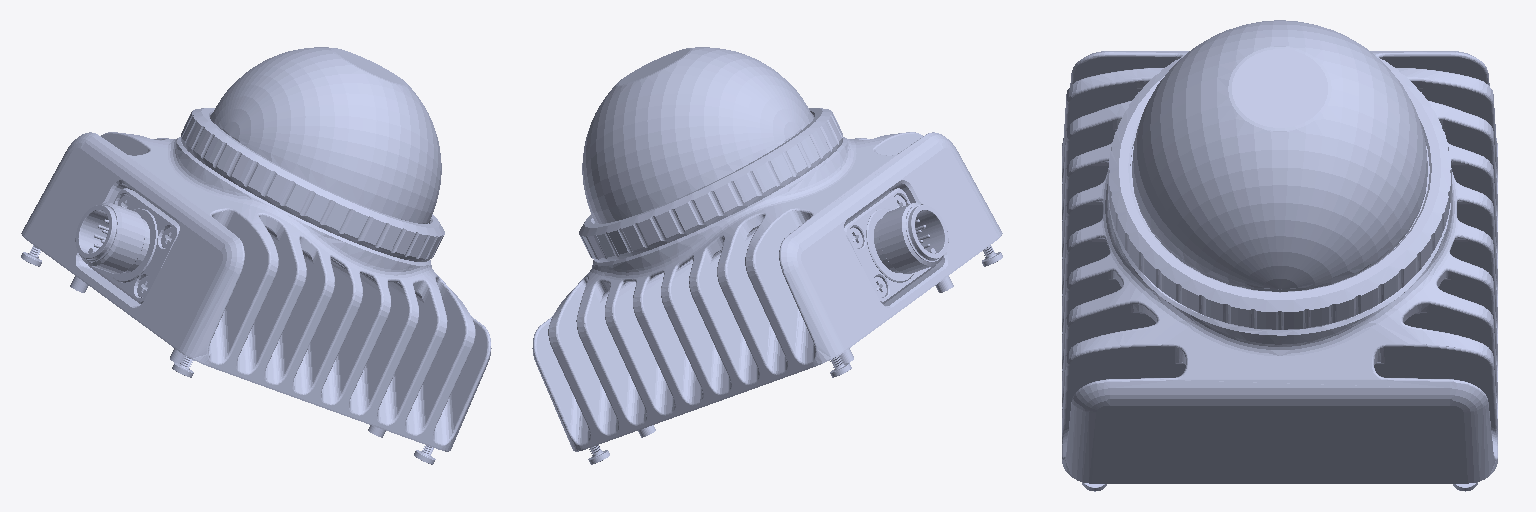
robot.urdf — Mk-description:
<?xml version="1.0" encoding="utf-8"?>
<robot name="Mk-description">
  
  <link name="base_footprint"/>

  <joint name="base_joint" type="fixed">
    <parent link="base_footprint"/>
    <child link="base_link"/>
    <origin xyz="0 0 0.25" rpy="0 0 0"/>
  </joint>

  <link name="base_link">
    <inertial>
      <origin xyz="0.003931 -0.0011622 -0.042486" rpy="0 0 0" />
      <mass value="68.825" />
      <inertia ixx="0.5143" ixy="-4.0046E-07" ixz="0.0029585" iyy="1.9652" iyz="2.8416E-06" izz="1.8922" />
    </inertial>
    <visual>
      <origin xyz="0 0 0" rpy="0 0 0" />
      <geometry>
        <mesh filename="package://mk_description/meshes/base_link.STL" />
      </geometry>
      <material name="">
        <color rgba="0.79216 0.81961 0.93333 1" />
      </material>
    </visual>
    <collision>
      <origin xyz="0 0 0" rpy="0 0 0" />
      <geometry>
        <mesh filename="package://mk_description/meshes/base_link.STL" />
      </geometry>
    </collision>
  </link>

  <link name="radar_Link">
    <inertial>
      <origin xyz="-0.00022593 -1.079E-07 -0.010581" rpy="0 0 0" />
      <mass value="0.12656" />
      <inertia ixx="3.6503E-05" ixy="1.6913E-10" ixz="-3.0481E-07" iyy="3.9717E-05" iyz="9.7579E-12" izz="5.8189E-05" />
    </inertial>
    <visual>
      <origin xyz="0 0 0" rpy="0 0 0" />
      <geometry>
        <mesh filename="package://mk_description/meshes/radar_Link.STL" />
      </geometry>
      <material name="">
        <color rgba="0.79216 0.81961 0.93333 1" />
      </material>
    </visual>
    <collision>
      <origin xyz="0 0 0" rpy="0 0 0" />
      <geometry>
        <mesh filename="package://mk_description/meshes/radar_Link.STL" />
      </geometry>
    </collision>
  </link>

  <joint name="radar_joint" type="fixed">
    <origin xyz="0.37089 0 0.48567" rpy="0 0.5236 0" />
    <parent link="base_link" />
    <child link="radar_Link" />
    <axis xyz="0 0 0" />
  </joint>

</robot>

--- What the picture shows (computed from the rendered views, not written in the file) ---
3 views of the same robot in one strip: view 1: azimuth 30°, elevation 25°; view 2: azimuth 150°, elevation 25°; view 3: azimuth 270°, elevation 25° (orthographic).
Robot: Mk-description — 3 links, 2 joints (2 fixed); root link base_footprint; default pose: every joint at zero.
Visible links, largest first — view 1: radar_Link; view 2: radar_Link; view 3: radar_Link.
Boxes of the visible links, <box> form: radar_Link: <box>21,47,491,464</box>; radar_Link: <box>532,47,1002,464</box>; radar_Link: <box>1062,20,1497,491</box>.
Size in the robot's own frame: 0.072 by 0.0649 by 0.0715 metres.
Meshes: 2 distinct files referenced, 1 mesh visuals loaded (1 binary STL); not drawn: 1 (reference not matched to a file when rendering).
